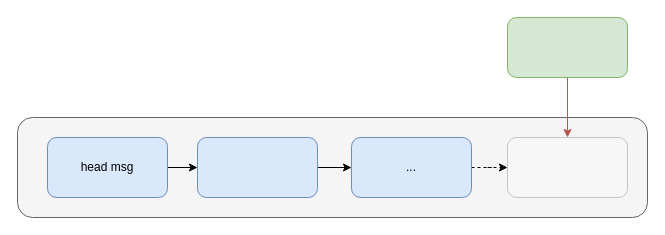
Some shapes in this 665 by 235 pixel diagram are drawn without their labels. Here are the shapes that lost their labels. From the top down, the centre of each, then its label:
At (567,47): "no delayed msg".
At (257,167): "msg 2".
